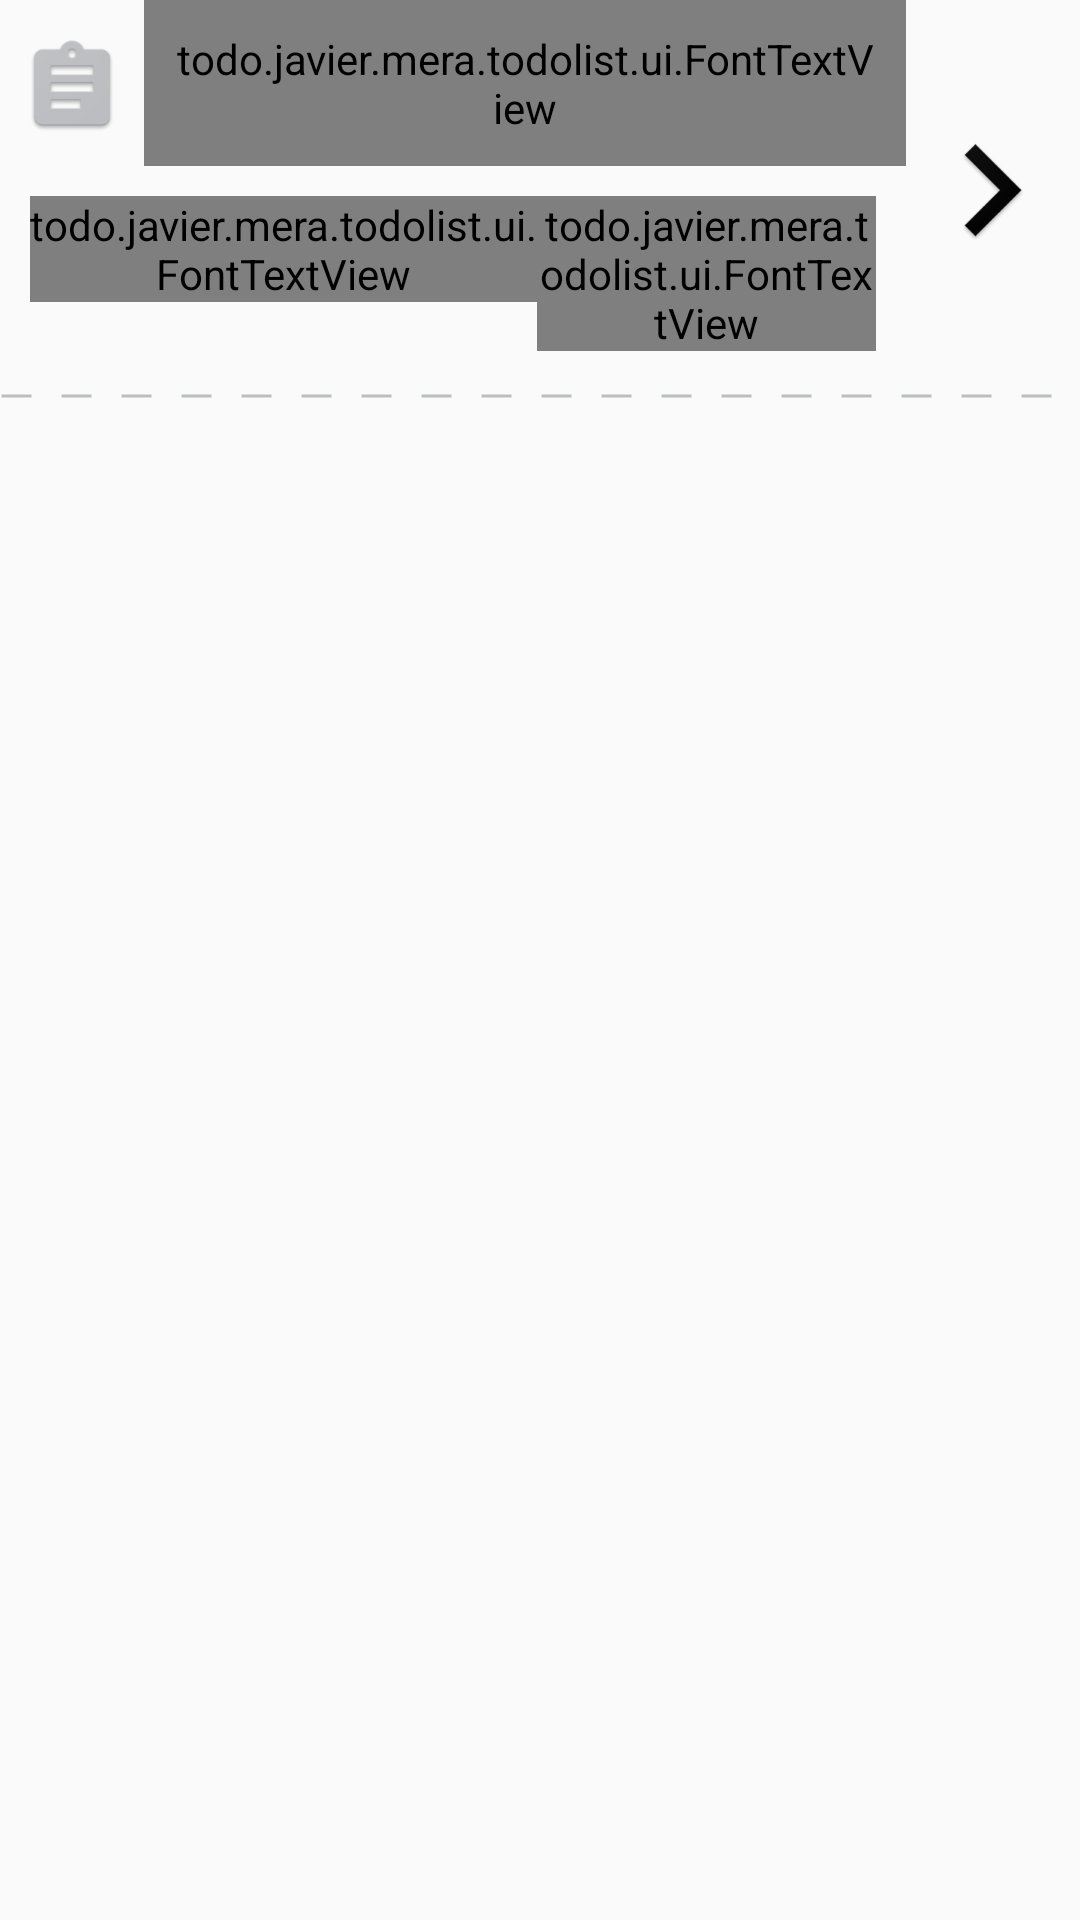

Icons on this 1080w x 1920h Android screen, each with its box as (x1, y1, x2, y2):
navigate: (964, 144, 1022, 238)
